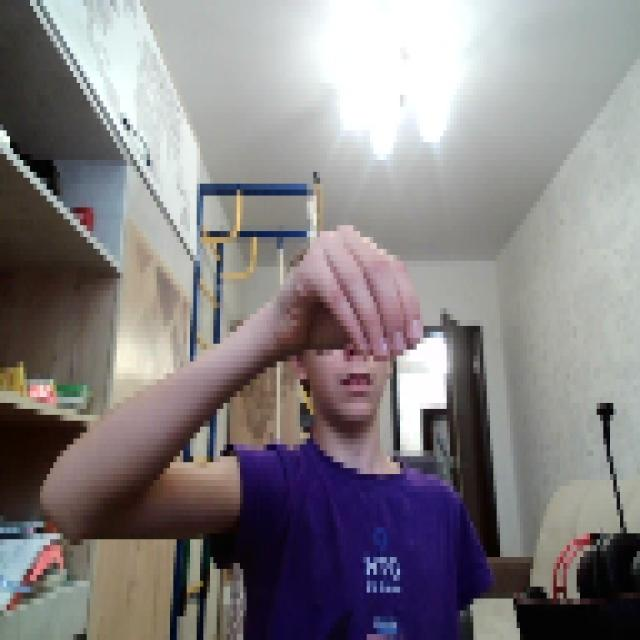left_click: (297, 214, 420, 356)
